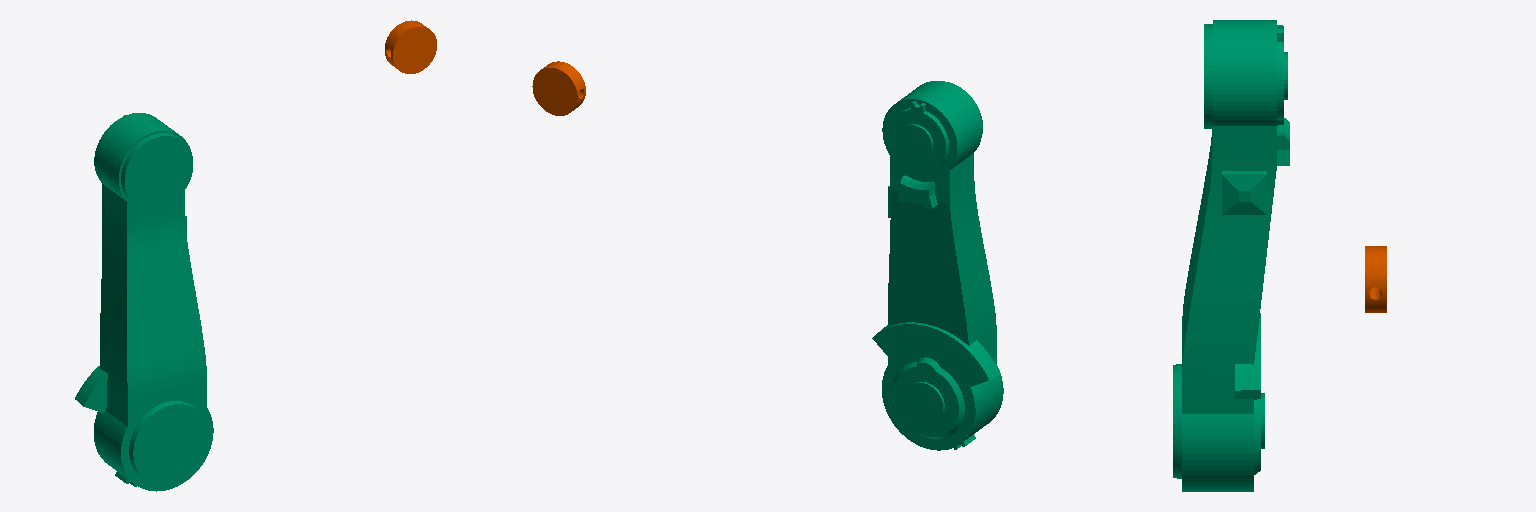
robot.urdf — IRB52_7-1.2-Short:
<?xml version="1.0" ?>
<robot name="IRB52_7-1.2-Short">

<link name="base_link">
  <inertial>
    <origin xyz="-0.1003642789864372 0.0005070514200372364 0.06157262705526034" rpy="0 0 0"/>
    <mass value="226.44137740993105"/>
    <inertia ixx="3.83046" iyy="6.601434" izz="9.832628" ixy="0.01063" iyz="-0.008453" ixz="0.316423"/>
  </inertial>
  <visual>
    <origin xyz="0 0 0" rpy="0 0 0"/>
    <geometry>
      <mesh filename="package://IRB52_7-1.2-Short_description/meshes/base_link.stl" scale="0.001 0.001 0.001"/>
    </geometry>
    <material name="silver"/>
  </visual>
  <collision>
    <origin xyz="0 0 0" rpy="0 0 0"/>
    <geometry>
      <mesh filename="package://IRB52_7-1.2-Short_description/meshes/base_link.stl" scale="0.001 0.001 0.001"/>
    </geometry>
  </collision>
</link>

<link name="IRB52_short_T00F81B51V41H61_rev1_2_1">
  <inertial>
    <origin xyz="0.06548330296919894 0.031913732283330054 0.2349206888618654" rpy="0 0 0"/>
    <mass value="477.4224879733597"/>
    <inertia ixx="10.787614" iyy="16.559219" izz="13.533902" ixy="0.407137" iyz="0.480398" ixz="-1.612466"/>
  </inertial>
  <visual>
    <origin xyz="0.0 -0.0 -0.1245" rpy="0 0 0"/>
    <geometry>
      <mesh filename="package://IRB52_7-1.2-Short_description/meshes/IRB52_short_T00F81B51V41H61_rev1_2_1.stl" scale="0.001 0.001 0.001"/>
    </geometry>
    <material name="silver"/>
  </visual>
  <collision>
    <origin xyz="0.0 -0.0 -0.1245" rpy="0 0 0"/>
    <geometry>
      <mesh filename="package://IRB52_7-1.2-Short_description/meshes/IRB52_short_T00F81B51V41H61_rev1_2_1.stl" scale="0.001 0.001 0.001"/>
    </geometry>
  </collision>
</link>

<link name="IRB52_short_T00F81B51V41H61_rev1_3_1">
  <inertial>
    <origin xyz="-0.00015451427242296756 -0.04479212901171742 0.2019310492620799" rpy="0 0 0"/>
    <mass value="62.10839179243666"/>
    <inertia ixx="2.091669" iyy="2.134942" izz="0.160797" ixy="0.000255" iyz="-0.147584" ixz="-0.006539"/>
  </inertial>
  <visual>
    <origin xyz="-0.15 0.138 -0.4865" rpy="0 0 0"/>
    <geometry>
      <mesh filename="package://IRB52_7-1.2-Short_description/meshes/IRB52_short_T00F81B51V41H61_rev1_3_1.stl" scale="0.001 0.001 0.001"/>
    </geometry>
    <material name="silver"/>
  </visual>
  <collision>
    <origin xyz="-0.15 0.138 -0.4865" rpy="0 0 0"/>
    <geometry>
      <mesh filename="package://IRB52_7-1.2-Short_description/meshes/IRB52_short_T00F81B51V41H61_rev1_3_1.stl" scale="0.001 0.001 0.001"/>
    </geometry>
  </collision>
</link>

<link name="IRB52_short_T00F81B51V41H61_rev1_4_1">
  <inertial>
    <origin xyz="0.016914128190772176 0.1358229083196425 -0.013696029007024602" rpy="0 0 0"/>
    <mass value="137.98509508779952"/>
    <inertia ixx="1.05566" iyy="2.173418" izz="2.264468" ixy="0.107306" iyz="0.077811" ixz="-0.015508"/>
  </inertial>
  <visual>
    <origin xyz="-0.15 0.11 -0.9615" rpy="0 0 0"/>
    <geometry>
      <mesh filename="package://IRB52_7-1.2-Short_description/meshes/IRB52_short_T00F81B51V41H61_rev1_4_1.stl" scale="0.001 0.001 0.001"/>
    </geometry>
    <material name="silver"/>
  </visual>
  <collision>
    <origin xyz="-0.15 0.11 -0.9615" rpy="0 0 0"/>
    <geometry>
      <mesh filename="package://IRB52_7-1.2-Short_description/meshes/IRB52_short_T00F81B51V41H61_rev1_4_1.stl" scale="0.001 0.001 0.001"/>
    </geometry>
  </collision>
</link>

<link name="IRB52_short_T00F81B51V41H61_rev1_5_1">
  <inertial>
    <origin xyz="0.16574308075572902 -0.0009230813206154442 -0.0004499364710910392" rpy="0 0 0"/>
    <mass value="23.22858508249877"/>
    <inertia ixx="0.039958" iyy="0.214074" izz="0.222867" ixy="0.002898" iyz="5.2e-05" ixz="0.000407"/>
  </inertial>
  <visual>
    <origin xyz="-0.464 0.0 -0.9615" rpy="0 0 0"/>
    <geometry>
      <mesh filename="package://IRB52_7-1.2-Short_description/meshes/IRB52_short_T00F81B51V41H61_rev1_5_1.stl" scale="0.001 0.001 0.001"/>
    </geometry>
    <material name="silver"/>
  </visual>
  <collision>
    <origin xyz="-0.464 0.0 -0.9615" rpy="0 0 0"/>
    <geometry>
      <mesh filename="package://IRB52_7-1.2-Short_description/meshes/IRB52_short_T00F81B51V41H61_rev1_5_1.stl" scale="0.001 0.001 0.001"/>
    </geometry>
  </collision>
</link>

<link name="IRB52_short_T00F81B51V41H61_rev1_0_1">
  <inertial>
    <origin xyz="-4.440892098500626e-16 -0.01365000000000034 -1.1102230246251565e-15" rpy="0 0 0"/>
    <mass value="1.0387285866977913"/>
    <inertia ixx="0.000592" iyy="0.000958" izz="0.000508" ixy="0.0" iyz="0.0" ixz="-0.0"/>
  </inertial>
  <visual>
    <origin xyz="-0.75 -0.01365 -0.9615" rpy="0 0 0"/>
    <geometry>
      <mesh filename="package://IRB52_7-1.2-Short_description/meshes/IRB52_short_T00F81B51V41H61_rev1_0_1.stl" scale="0.001 0.001 0.001"/>
    </geometry>
    <material name="silver"/>
  </visual>
  <collision>
    <origin xyz="-0.75 -0.01365 -0.9615" rpy="0 0 0"/>
    <geometry>
      <mesh filename="package://IRB52_7-1.2-Short_description/meshes/IRB52_short_T00F81B51V41H61_rev1_0_1.stl" scale="0.001 0.001 0.001"/>
    </geometry>
  </collision>
</link>

<link name="IRB52_short_T00F81B51V41H61_rev1_7_1">
  <inertial>
    <origin xyz="0.0036397384431808844 -9.698639895149904e-08 -0.00019732680522110968" rpy="0 0 0"/>
    <mass value="0.2292693926024354"/>
    <inertia ixx="4.7e-05" iyy="0.000105" izz="0.000106" ixy="0.0" iyz="0.0" ixz="1e-06"/>
  </inertial>
  <visual>
    <origin xyz="-0.792004 0.0 -0.9615" rpy="0 0 0"/>
    <geometry>
      <mesh filename="package://IRB52_7-1.2-Short_description/meshes/IRB52_short_T00F81B51V41H61_rev1_7_1.stl" scale="0.001 0.001 0.001"/>
    </geometry>
    <material name="silver"/>
  </visual>
  <collision>
    <origin xyz="-0.792004 0.0 -0.9615" rpy="0 0 0"/>
    <geometry>
      <mesh filename="package://IRB52_7-1.2-Short_description/meshes/IRB52_short_T00F81B51V41H61_rev1_7_1.stl" scale="0.001 0.001 0.001"/>
    </geometry>
  </collision>
</link>

<joint name="Revolute 1" type="continuous">
  <origin xyz="0.0 0.0 0.1245" rpy="0 0 0"/>
  <parent link="base_link"/>
  <child link="IRB52_short_T00F81B51V41H61_rev1_2_1"/>
  <axis xyz="0.0 0.0 1.0"/>
</joint>

<joint name="Revolute 2" type="continuous">
  <origin xyz="0.15 -0.138 0.362" rpy="0 0 0"/>
  <parent link="IRB52_short_T00F81B51V41H61_rev1_2_1"/>
  <child link="IRB52_short_T00F81B51V41H61_rev1_3_1"/>
  <axis xyz="-0.0 -1.0 0.0"/>
</joint>

<joint name="Revolute 3" type="continuous">
  <origin xyz="0.0 0.028 0.475" rpy="0 0 0"/>
  <parent link="IRB52_short_T00F81B51V41H61_rev1_3_1"/>
  <child link="IRB52_short_T00F81B51V41H61_rev1_4_1"/>
  <axis xyz="0.0 -1.0 0.0"/>
</joint>

<joint name="Revolute 4" type="continuous">
  <origin xyz="0.314 0.11 0.0" rpy="0 0 0"/>
  <parent link="IRB52_short_T00F81B51V41H61_rev1_4_1"/>
  <child link="IRB52_short_T00F81B51V41H61_rev1_5_1"/>
  <axis xyz="1.0 0.0 0.0"/>
</joint>

<joint name="Revolute 5" type="continuous">
  <origin xyz="0.286 0.01365 0.0" rpy="0 0 0"/>
  <parent link="IRB52_short_T00F81B51V41H61_rev1_5_1"/>
  <child link="IRB52_short_T00F81B51V41H61_rev1_0_1"/>
  <axis xyz="0.0 1.0 0.0"/>
</joint>

<joint name="Revolute 6" type="continuous">
  <origin xyz="0.042004 -0.01365 0.0" rpy="0 0 0"/>
  <parent link="IRB52_short_T00F81B51V41H61_rev1_0_1"/>
  <child link="IRB52_short_T00F81B51V41H61_rev1_7_1"/>
  <axis xyz="1.0 0.0 0.0"/>
</joint>

</robot>

--- What the picture shows (computed from the rendered views, not written in the file) ---
Views: 3 orthographic renders of the robot side by side, from view 1: azimuth 30°, elevation 25°; view 2: azimuth 150°, elevation 25°; view 3: azimuth 270°, elevation 25°.
Model IRB52_7-1.2-Short with 7 links and 6 joints (6 continuous), rooted at base_link, posed all joints at 0.
Links seen in each view (by area): view 1: IRB52_short_T00F81B51V41H61_rev1_3_1, IRB52_short_T00F81B51V41H61_rev1_0_1; view 2: IRB52_short_T00F81B51V41H61_rev1_3_1, IRB52_short_T00F81B51V41H61_rev1_0_1; view 3: IRB52_short_T00F81B51V41H61_rev1_3_1, IRB52_short_T00F81B51V41H61_rev1_0_1.
Link boxes in pixels (box(x1,y1,x2,y2)): IRB52_short_T00F81B51V41H61_rev1_3_1: box(75, 113, 213, 491); IRB52_short_T00F81B51V41H61_rev1_0_1: box(385, 20, 436, 73); IRB52_short_T00F81B51V41H61_rev1_3_1: box(872, 81, 1003, 450); IRB52_short_T00F81B51V41H61_rev1_0_1: box(532, 61, 585, 115); IRB52_short_T00F81B51V41H61_rev1_3_1: box(1173, 20, 1289, 491); IRB52_short_T00F81B51V41H61_rev1_0_1: box(1365, 246, 1386, 312).
Bounding box of the posed robot: 0.7625 × 0.2661 × 0.6331 m (x, y, z).
2 mesh visuals loaded from 7 distinct referenced files (2 binary STL); not drawn: 5 (reference not matched to a file when rendering).